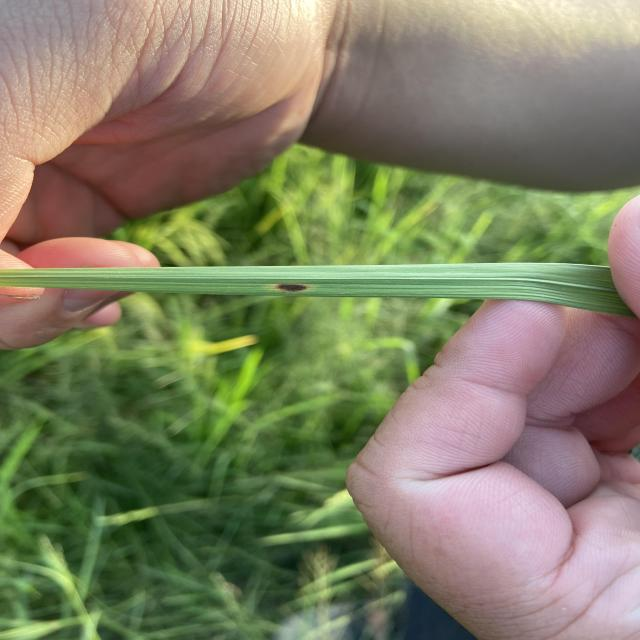Dom nau: (277, 284, 306, 292)
